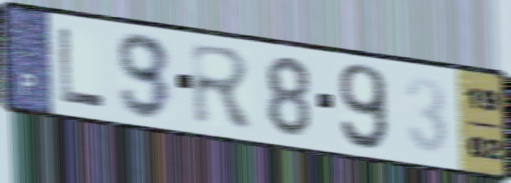3: (403, 74, 453, 158)
8: (262, 54, 314, 140)
9: (114, 31, 176, 123), (335, 62, 389, 154)
L: (56, 24, 107, 111)
R: (188, 39, 259, 132)
